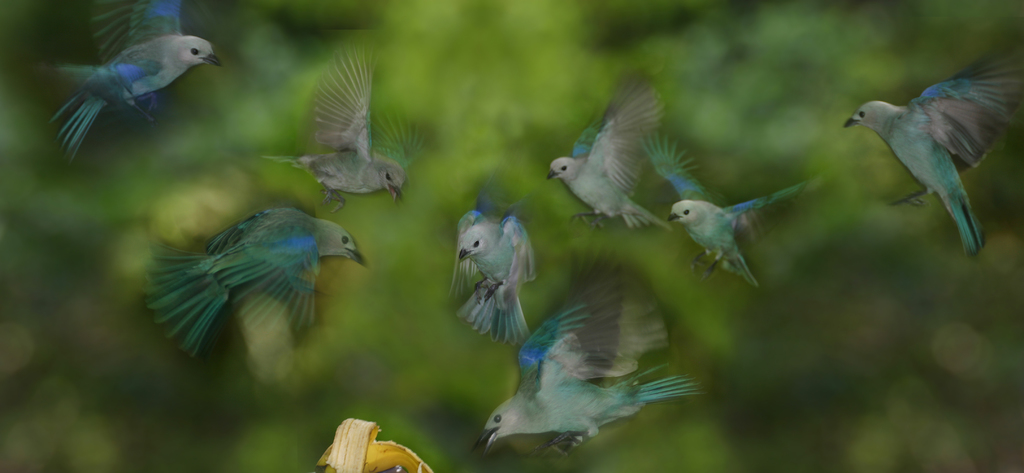Bird: (36, 0, 1023, 463)
